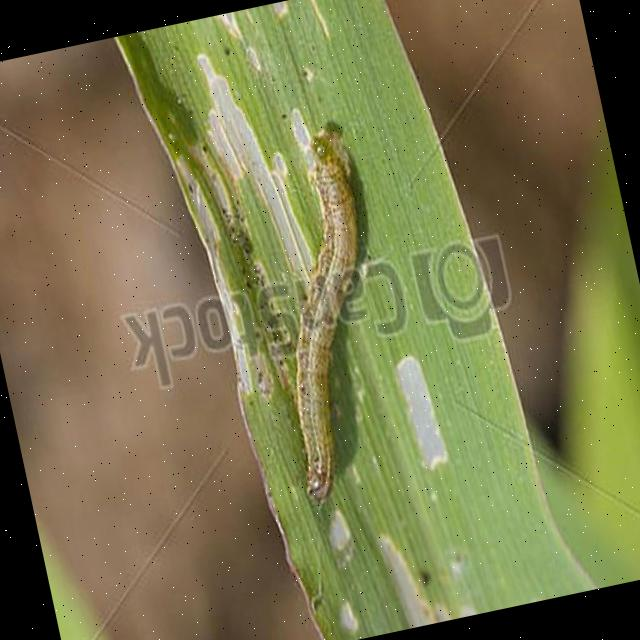worm: (233, 121, 424, 512)
